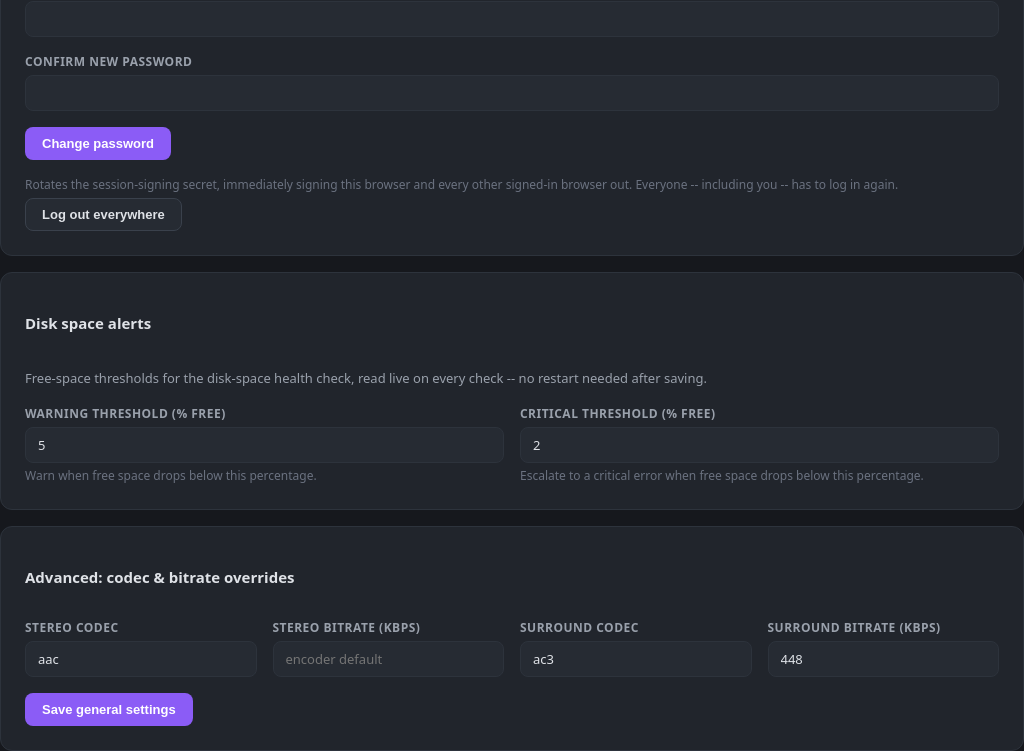
it: GeneralSection › validates the disk-space critical threshold before saving
(page scrolled)
Replace the text in the number field labelled "Critical threshold (% free)" with "150": (760, 445) [520,427,999,463]
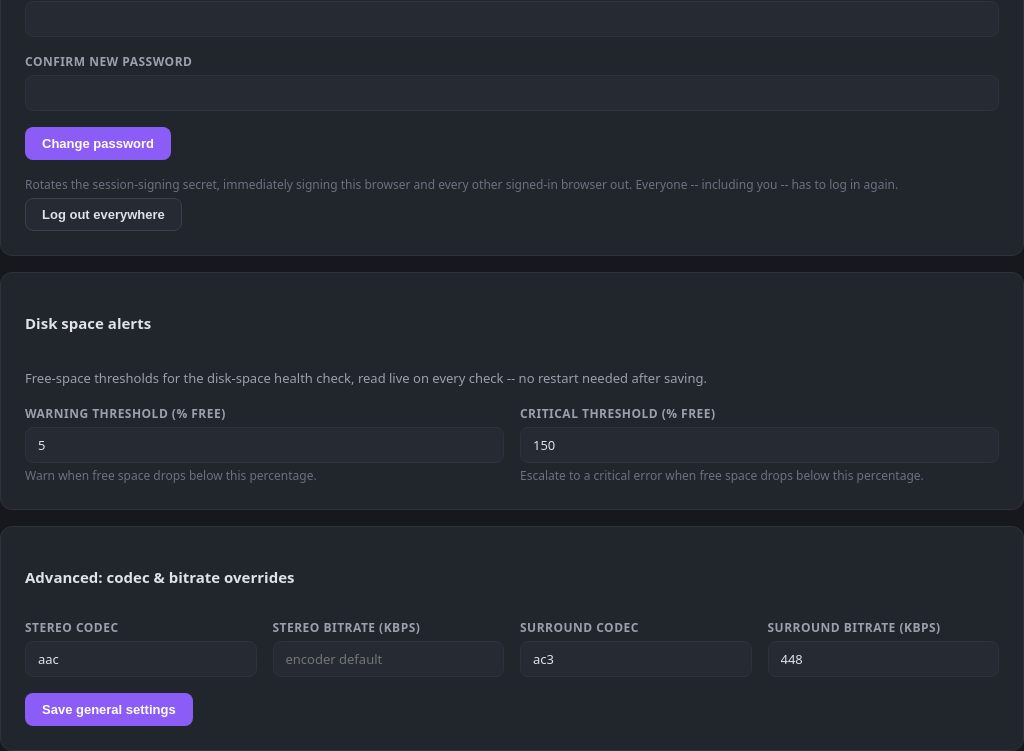
Click the button "Save general settings": (109, 710) [25,693,193,726]
(page scrolled)
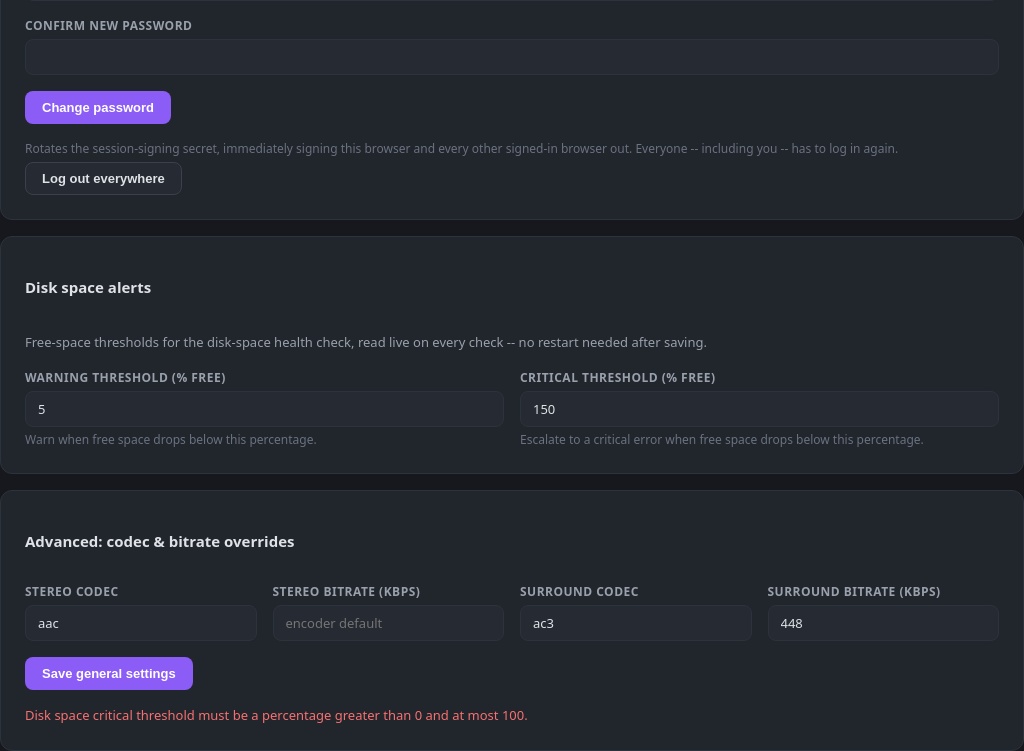
Check: the text "Disk space critical threshold must be a percentage greater than 0" is shown, box [25,706,528,724]
